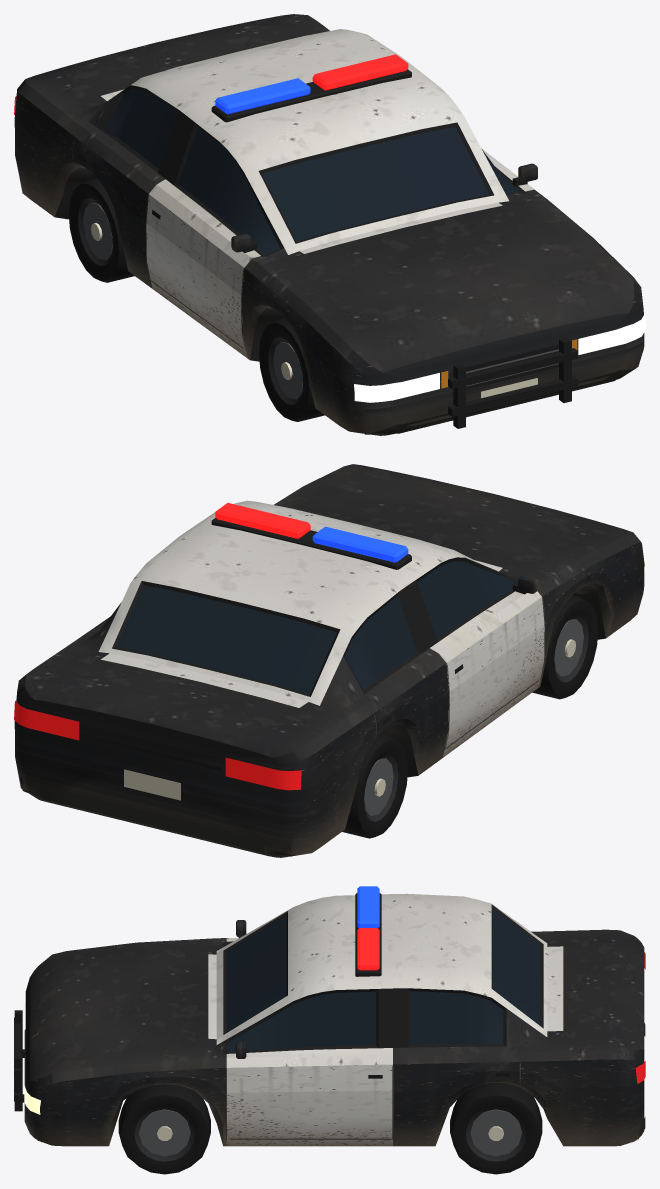
File: police.glb
3 views of the same model, one above another, from view 1: azimuth 30°, elevation 25°; view 2: azimuth 150°, elevation 25°; view 3: azimuth 270°, elevation 25° (orthographic). The views are drawn at different scales.
Parts seen in each view (by area): view 1: body, wheel-back-right, wheel-front-right, wheel-back-right.1, wheel-front-right.1; view 2: body, wheel-back-right, wheel-front-right, wheel-front-right.1, wheel-back-right.1; view 3: body, wheel-back-left, wheel-front-left, wheel-back-left.1, wheel-front-left.1.
Boxes of the visible parts, bbox=[...] form: body: bbox=[14, 14, 645, 435]; wheel-back-right: bbox=[68, 178, 134, 282]; wheel-front-right: bbox=[259, 318, 324, 421]; wheel-back-right.1: bbox=[78, 198, 112, 265]; wheel-front-right.1: bbox=[268, 337, 302, 405]; body: bbox=[14, 464, 645, 857]; wheel-back-right: bbox=[342, 734, 407, 838]; wheel-front-right: bbox=[532, 595, 598, 699]; wheel-front-right.1: bbox=[554, 614, 588, 682]; wheel-back-right.1: bbox=[364, 754, 398, 821]; body: bbox=[14, 886, 645, 1146]; wheel-back-left: bbox=[450, 1082, 542, 1174]; wheel-front-left: bbox=[118, 1084, 210, 1174]; wheel-back-left.1: bbox=[466, 1106, 526, 1161]; wheel-front-left.1: bbox=[134, 1106, 195, 1161].
Size of the model in its own units: 1.5 by 1.02 by 3.09.
15 materials, 2 textured.
